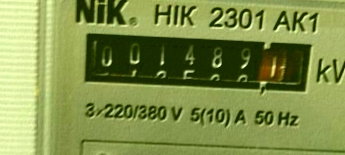0: (125, 40, 142, 66), (98, 43, 114, 69)
1: (154, 40, 169, 70), (266, 50, 279, 80)
4: (181, 42, 198, 69)
8: (207, 43, 225, 70)
9: (236, 46, 252, 71)
screen: (68, 23, 326, 107)
